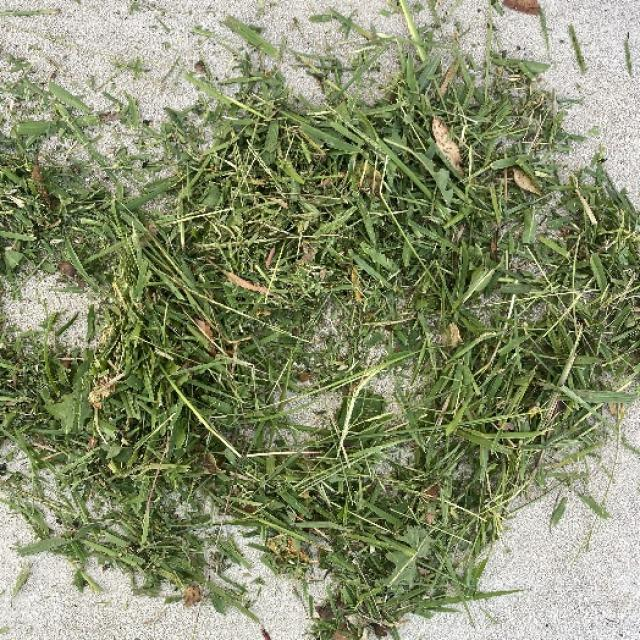organik: (64, 57, 614, 585)
